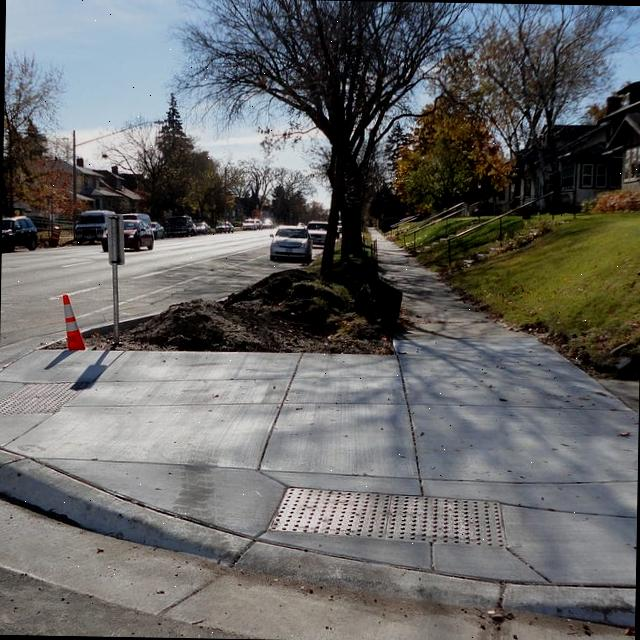curb: (0, 451, 634, 627)
